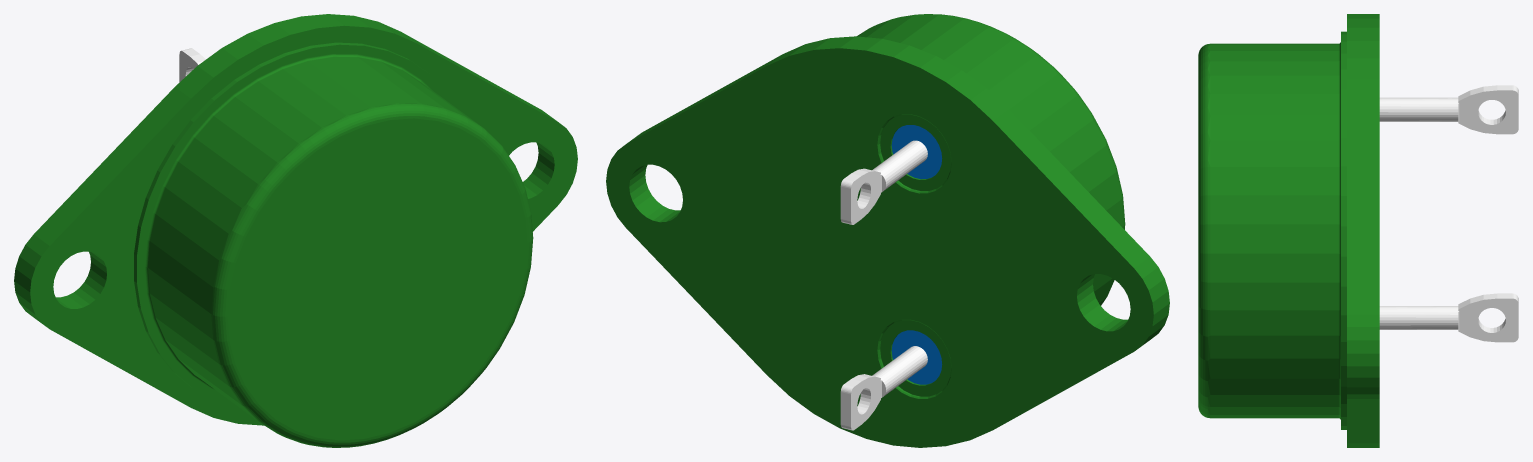
3 renders of one model, left to right at view 1: azimuth 30°, elevation 25°; view 2: azimuth 150°, elevation 25°; view 3: azimuth 270°, elevation 25°, orthographic.
Visible parts, largest first — view 1: 2sk180; view 2: 2sk180; view 3: 2sk180.
Boxes of the visible parts, bbox=[...] form: 2sk180: bbox=[14, 14, 577, 447]; 2sk180: bbox=[606, 14, 1169, 447]; 2sk180: bbox=[1198, 14, 1518, 447].
Size of the model in its own units: 0.0223 by 0.0151 by 0.0112.
